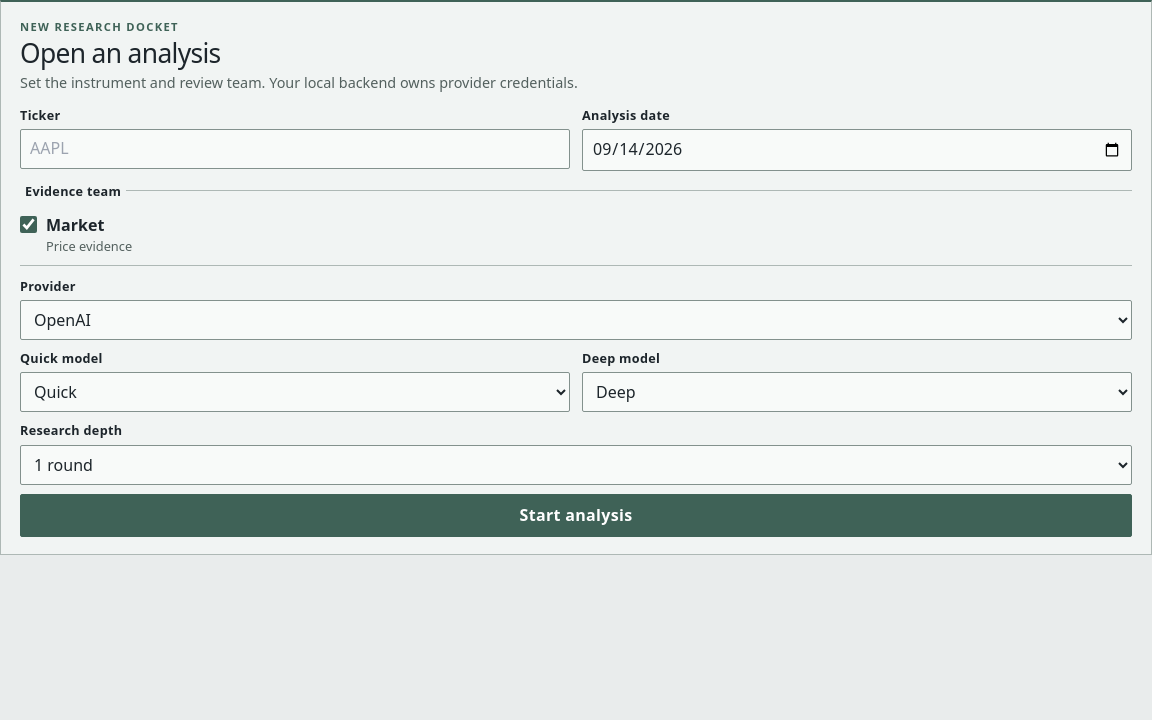
Test case: shows a structured API failure without clearing entered values
Expected: the button "Start analysis" is enabled, [20,494,1132,537]
In the field labelled "Ticker": (295,149) [20,130,570,169], type "aapl"
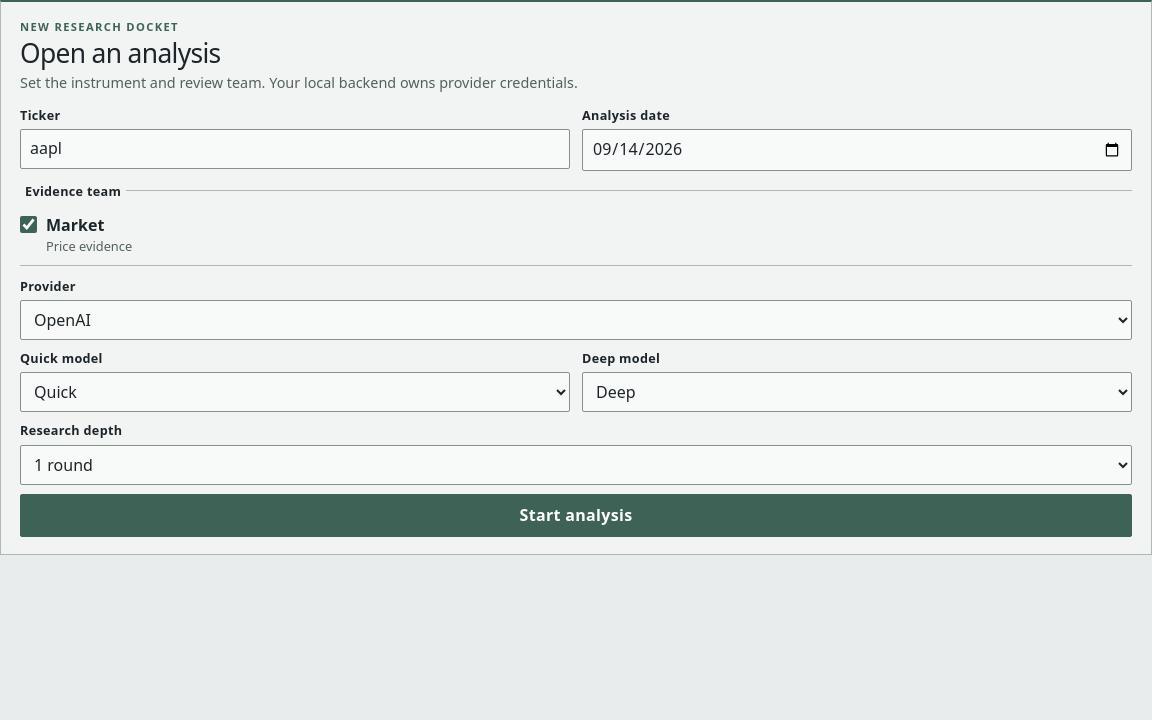
Click the button "Start analysis": (576,515) [20,494,1132,537]
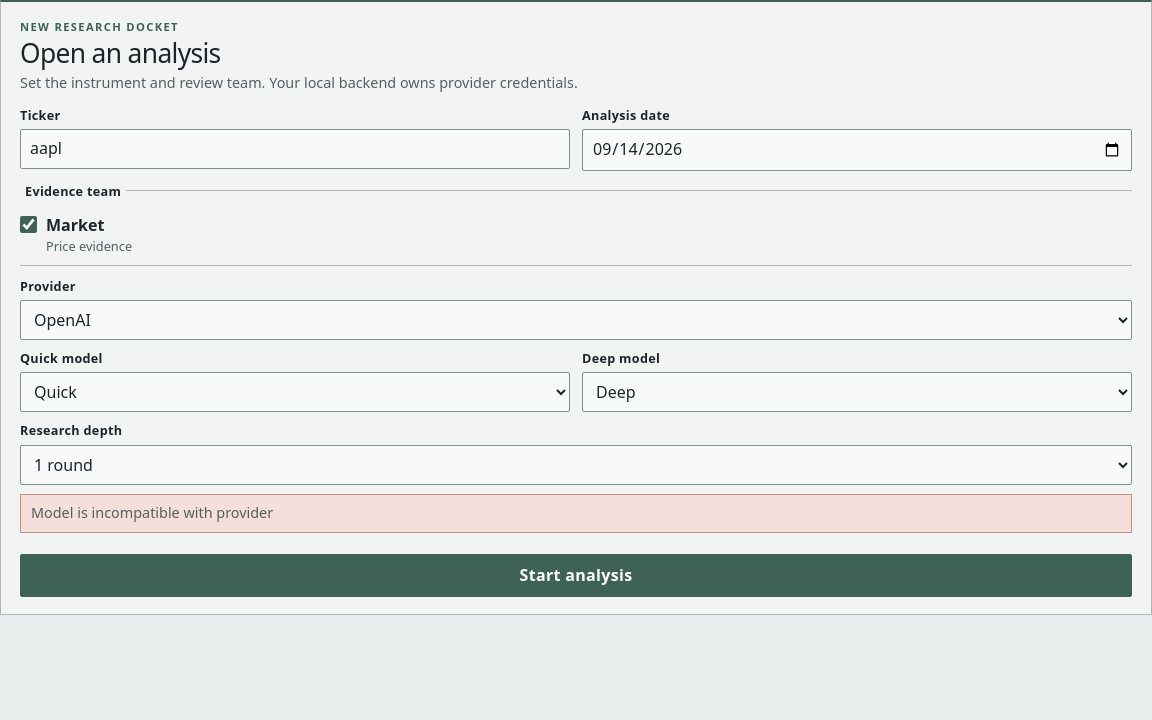
Expected: the message reads "Model is incompatible with provider", [31,503,273,522]
